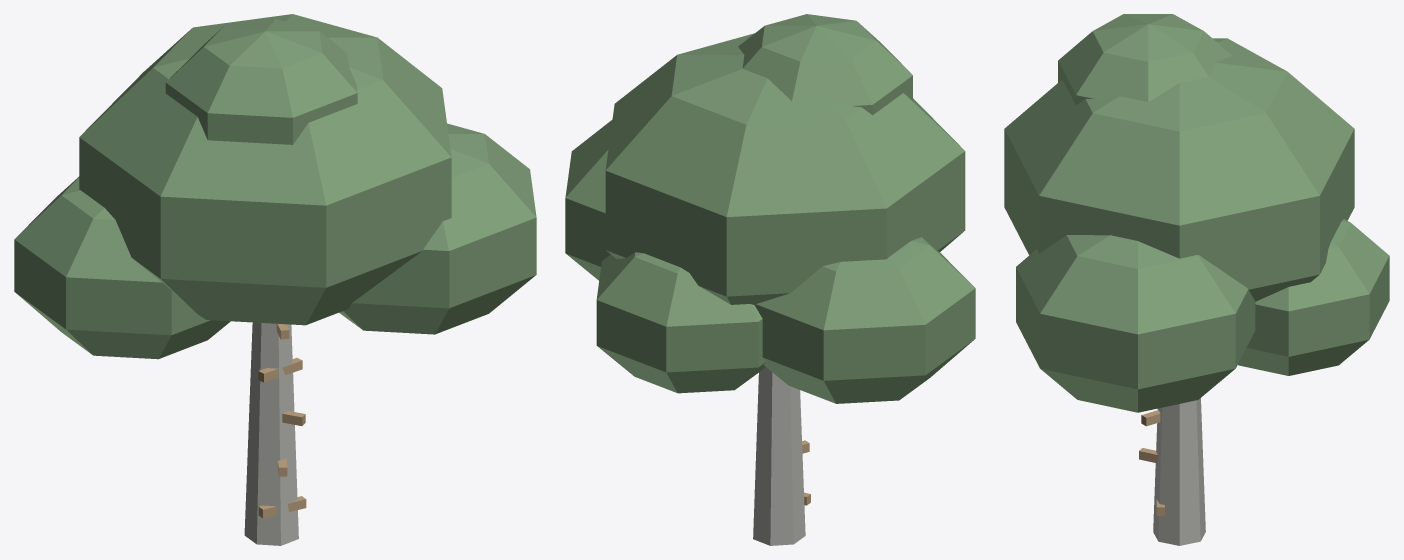
File: wipe-day-survival-island-birch-tree-e0a47b23__27426.glb
3 renders of one model, left to right at view 1: azimuth 30°, elevation 25°; view 2: azimuth 150°, elevation 25°; view 3: azimuth 270°, elevation 25°, orthographic. The views are drawn at different scales.
Visible parts, largest first — view 1: birch-tree; view 2: birch-tree; view 3: birch-tree.
Part boxes in pixels (<box>): birch-tree: <box>14,14,536,545</box>; birch-tree: <box>565,14,975,545</box>; birch-tree: <box>1004,14,1389,545</box>.
Bounding box in the file's own units: 4.69 × 5.3 × 3.7.
